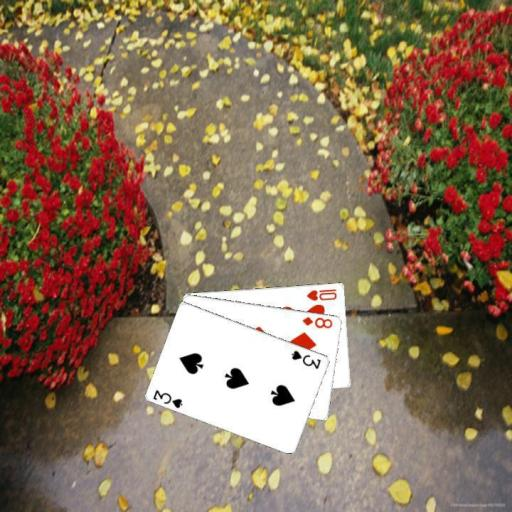card-corner: (289, 347, 323, 371), (150, 386, 184, 410), (304, 285, 338, 302), (300, 314, 334, 330)
